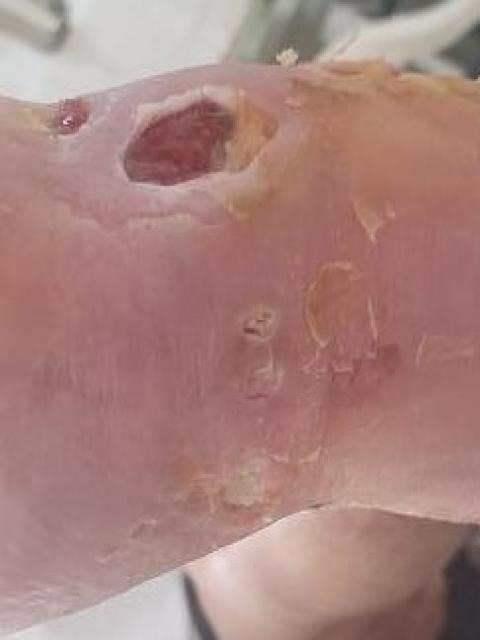wound: (120, 85, 278, 188), (34, 97, 94, 138)
